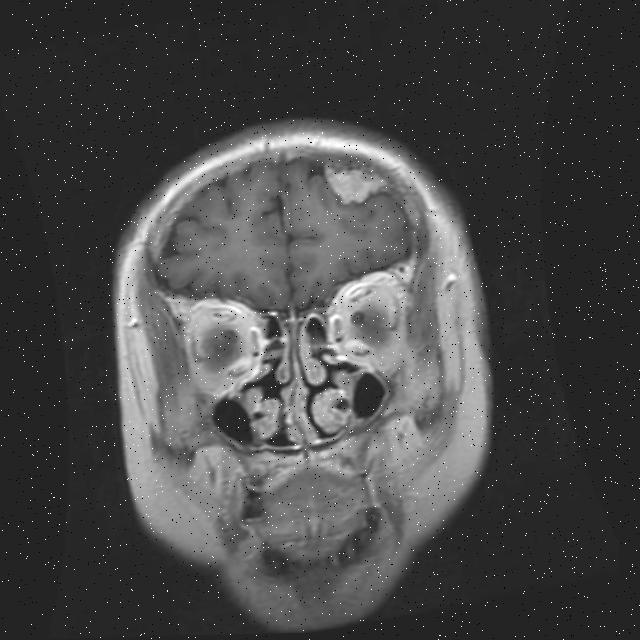Meningioma: (317, 148, 395, 212)
